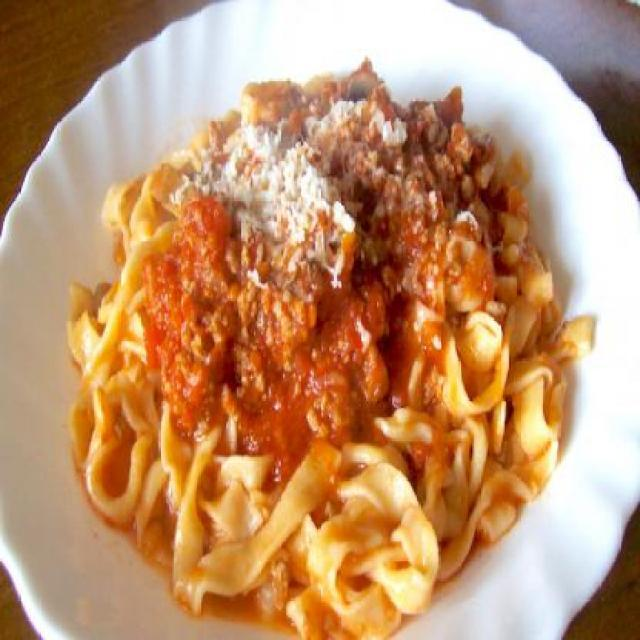Pasta al ragu: (101, 48, 570, 594)
